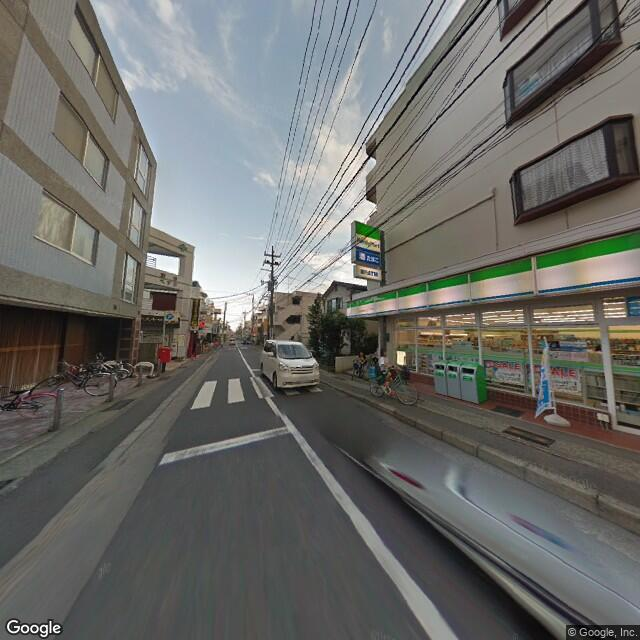family_mart: (349, 229, 639, 321), (352, 221, 382, 269)
